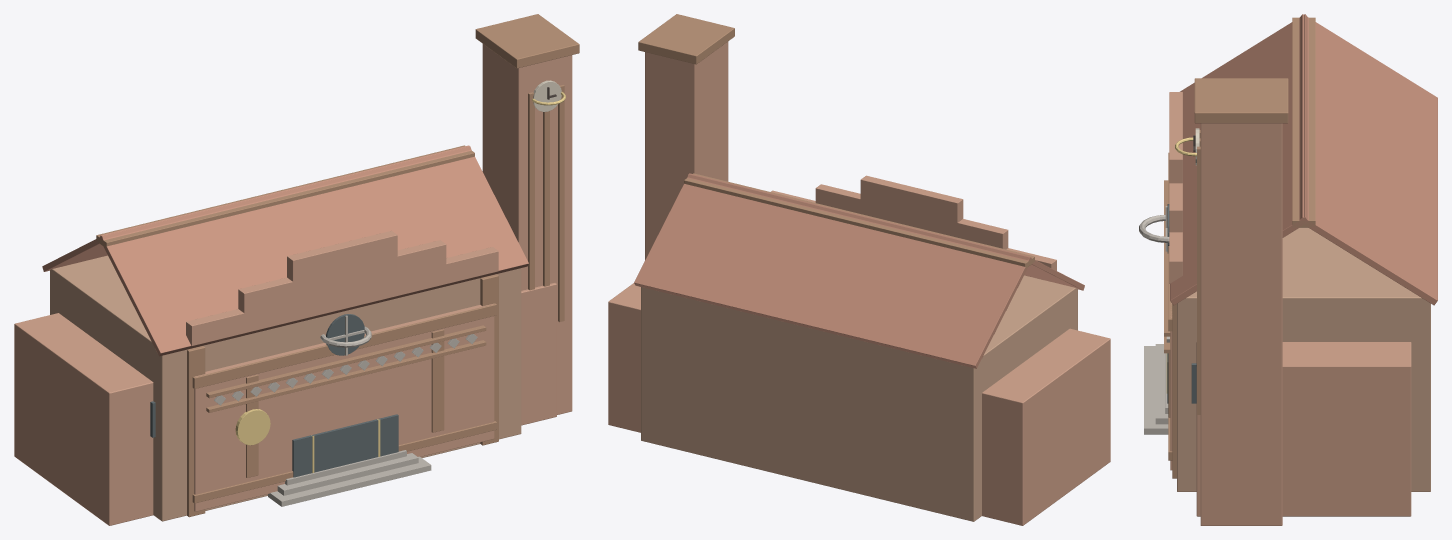
The model's file is theater.glb.
The picture shows the model from 3 angles, left to right: view 1: azimuth 30°, elevation 25°; view 2: azimuth 150°, elevation 25°; view 3: azimuth 270°, elevation 25°; orthographic projection. The views are drawn at different scales.
Parts seen in each view (by area): view 1: Roof1, Facade, Body, WingL, ClockTower, Parapet1, WingR, Parapet2, Door, TowerCap, Ridge, ReliefBand (+18 smaller); view 2: Body, Roof2, WingL, ClockTower, WingR, Parapet2, TowerCap, Ridge, Parapet3, Roof1; view 3: ClockTower, Roof2, WingR, Body, Roof1, TowerCap, Ridge, Step1, Parapet3, TowerGroove.002, Step2, Pilaster.001 (+6 smaller).
Boxes of the visible parts, x1,y1,x2,y2 form: Roof1: [100, 145, 528, 356]; Facade: [194, 303, 494, 511]; Body: [50, 255, 521, 521]; WingL: [14, 313, 153, 525]; ClockTower: [482, 44, 572, 414]; Parapet1: [186, 247, 498, 345]; WingR: [521, 283, 556, 425]; Parapet2: [238, 240, 446, 313]; Door: [292, 414, 398, 477]; TowerCap: [475, 14, 579, 68]; Ridge: [96, 145, 474, 247]; ReliefBand: [192, 303, 496, 388]; Body: [641, 275, 1077, 521]; Roof2: [634, 173, 1031, 368]; WingL: [982, 328, 1110, 525]; ClockTower: [645, 41, 728, 259]; WingR: [608, 283, 640, 432]; Parapet2: [815, 184, 1008, 249]; TowerCap: [638, 14, 734, 64]; Ridge: [684, 173, 1034, 268]; Parapet3: [860, 175, 963, 222]; Roof1: [687, 174, 1084, 290]; ClockTower: [1200, 123, 1282, 525]; Roof2: [1300, 14, 1437, 305]; WingR: [1196, 342, 1411, 516]; Body: [1177, 227, 1430, 491]; Roof1: [1170, 14, 1307, 305]; TowerCap: [1194, 78, 1288, 123]; Ridge: [1292, 17, 1315, 227]; Step1: [1144, 346, 1168, 434]; Parapet3: [1169, 102, 1182, 183]; TowerGroove.002: [1197, 146, 1200, 414]; Step2: [1155, 344, 1168, 424]; Pilaster.001: [1172, 304, 1176, 478].
Bounding box in the file's own units: 31.35 × 23.51 × 15.3.
